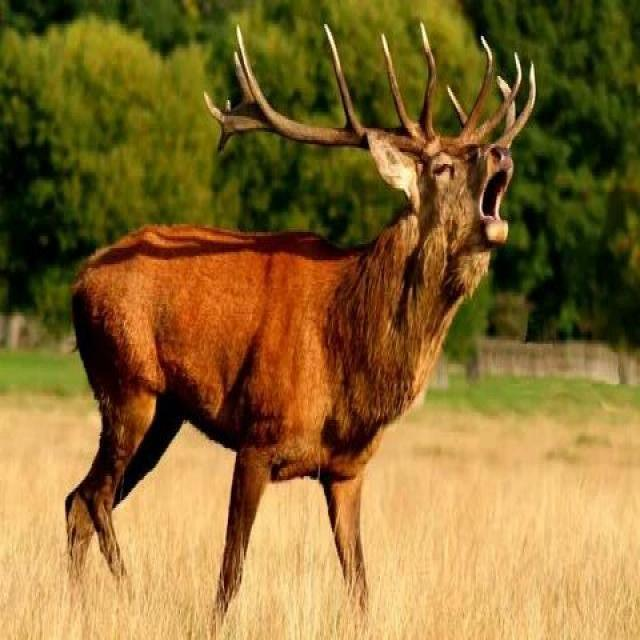deer: (58, 21, 522, 484)
